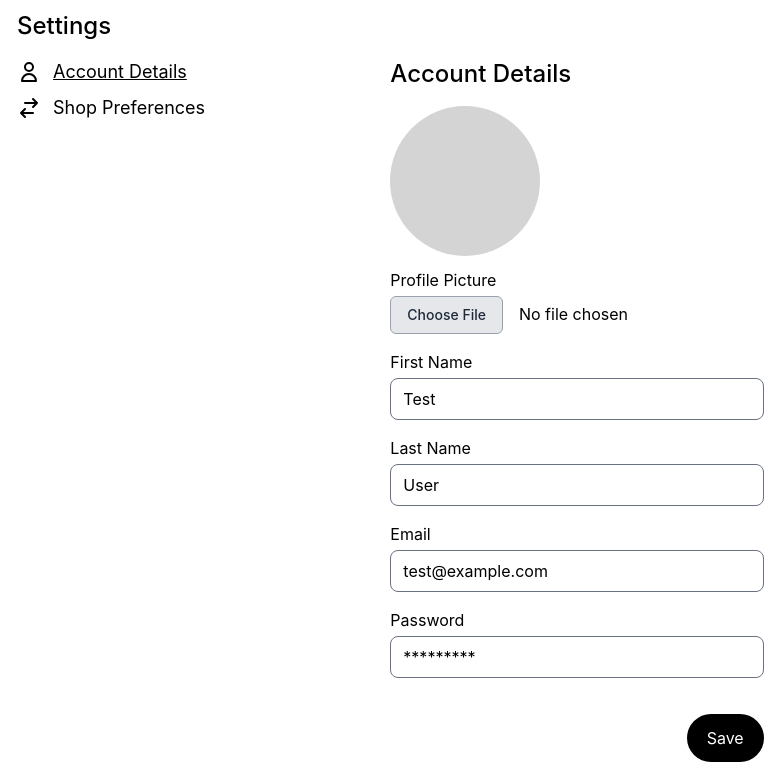
Test: switches to Shop Preferences when that tab is clicked
Expected: the heading "Account Details" is shown, [390,59,571,88]
Click the tab "Shop Preferences".
click(204, 108)  # box [17,94,390,122]
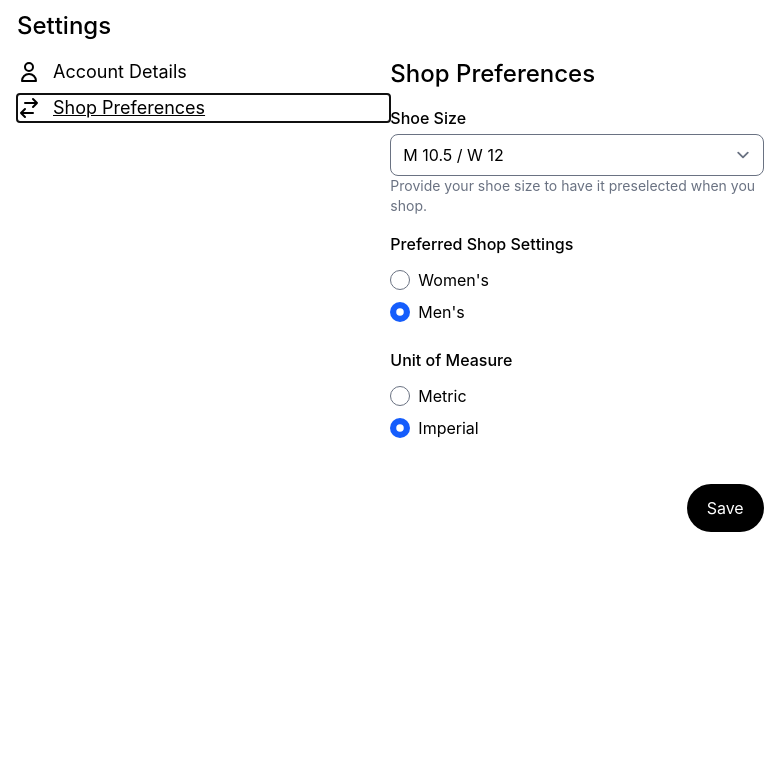
Expected: the heading "Shop Preferences" is shown, [390,59,595,88]
